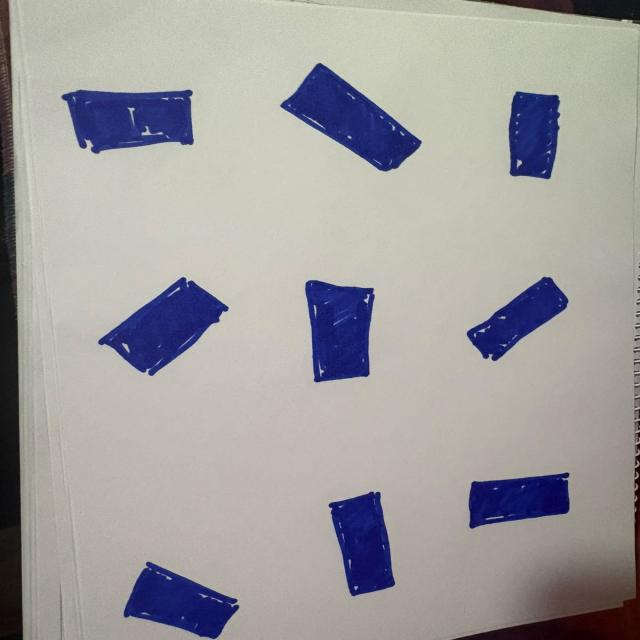Rectangle: (281, 63, 421, 171), (99, 278, 228, 376), (124, 562, 238, 640), (467, 277, 567, 360), (62, 90, 193, 153), (329, 492, 394, 596), (469, 473, 569, 528), (508, 92, 560, 179)
